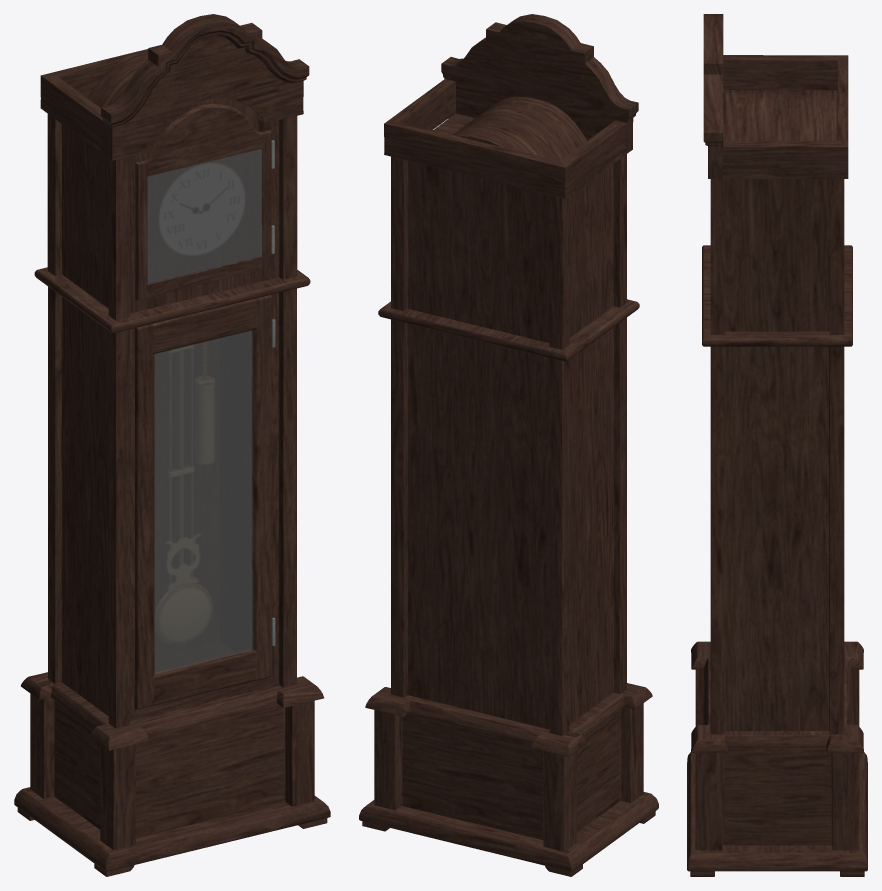
File: grandfather_clock.glb
3 views of the same model, side by side, from view 1: azimuth 30°, elevation 25°; view 2: azimuth 150°, elevation 25°; view 3: azimuth 270°, elevation 25° (orthographic). The views are drawn at different scales.
Parts seen in each view (by area): view 1: BodyDoor, Body, Base, FaceDoor, Head, Crown, Base_Platform, BodyPlatform, HeadPlatform; view 2: Body, Head, Base, Crown, Base_Platform, BodyPlatform, HeadPlatform; view 3: Body, Head, Base, Crown, Base_Platform, BodyPlatform, HeadPlatform.
Boxes of the visible parts, x1=… form: BodyDoor: x1=135, y1=295, x2=271, y2=709; Body: x1=48, y1=286, x2=296, y2=728; Base: x1=30, y1=693, x2=314, y2=850; FaceDoor: x1=135, y1=103, x2=271, y2=300; Head: x1=47, y1=52, x2=297, y2=320; Crown: x1=40, y1=14, x2=309, y2=160; Base_Platform: x1=14, y1=787, x2=330, y2=871; BodyPlatform: x1=21, y1=672, x2=324, y2=750; HeadPlatform: x1=34, y1=267, x2=310, y2=333; Body: x1=391, y1=317, x2=626, y2=736; Head: x1=391, y1=96, x2=626, y2=349; Base: x1=374, y1=703, x2=643, y2=851; Crown: x1=384, y1=14, x2=638, y2=198; Base_Platform: x1=359, y1=792, x2=658, y2=871; BodyPlatform: x1=365, y1=683, x2=652, y2=757; HeadPlatform: x1=378, y1=299, x2=639, y2=361; Body: x1=710, y1=346, x2=844, y2=734; Head: x1=710, y1=90, x2=844, y2=334; Base: x1=695, y1=669, x2=859, y2=850; Crown: x1=703, y1=14, x2=848, y2=178; Base_Platform: x1=687, y1=752, x2=867, y2=871; BodyPlatform: x1=691, y1=641, x2=863, y2=752; HeadPlatform: x1=702, y1=245, x2=852, y2=346.
Size of the model in its own units: 10.4 by 36.22 by 7.37.
1 material, 1 textured.
